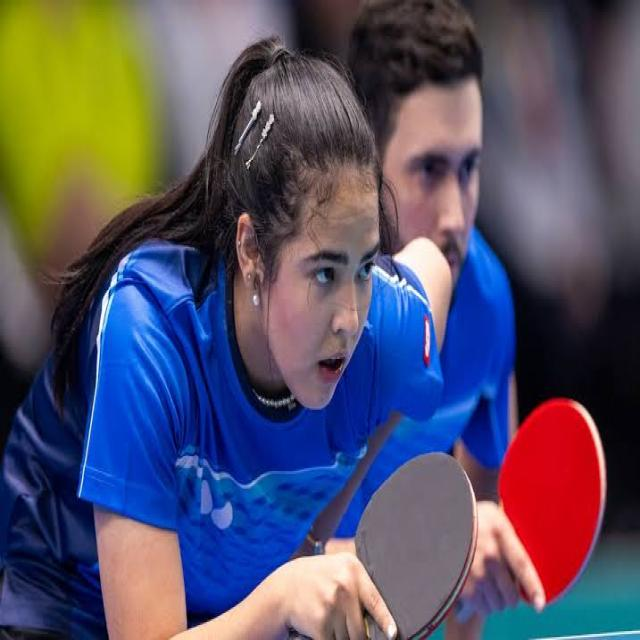TT Racket: (485, 353, 631, 626), (346, 419, 509, 639)
